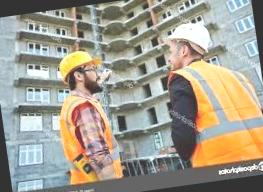helmet: (50, 42, 106, 86), (162, 18, 216, 59)
person: (156, 10, 263, 169), (43, 39, 127, 180)
